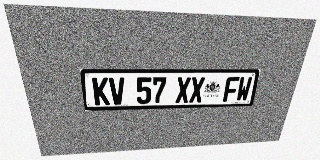5: (137, 77, 151, 104)
7: (152, 77, 167, 104)
F: (223, 77, 240, 102)
K: (92, 77, 110, 105)
V: (109, 77, 125, 105)
W: (235, 77, 253, 101)
X: (175, 77, 191, 103), (189, 77, 205, 103)
